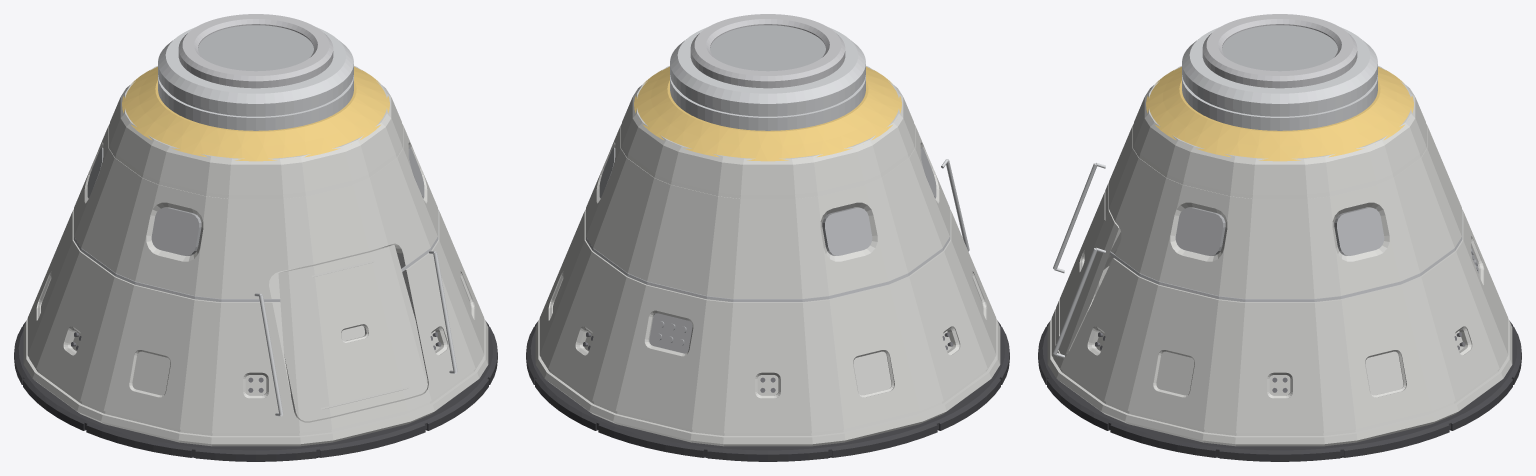
The model's file is ax_cmd_08_ares_cargo_capsule.glb.
3 renders of one model, left to right at view 1: azimuth 30°, elevation 25°; view 2: azimuth 150°, elevation 25°; view 3: azimuth 270°, elevation 25°, orthographic.
Parts seen in each view (by area): view 1: shell, hatch_door_1, mli_crown, nose_cap, heat_shield, docking_port, docking_hatch, window_blanking_plates, handrails, grey_stripe; view 2: shell, mli_crown, nose_cap, heat_shield, docking_port, docking_hatch, window_blanking_plates, grey_stripe, umbilical_panel; view 3: shell, mli_crown, nose_cap, heat_shield, docking_port, docking_hatch, window_blanking_plates, hatch_door_1, grey_stripe, handrails.
Part boxes in pixels (x1,y1,x2,y2): shell: (23,66,488,446); hatch_door_1: (278,245,427,421); mli_crown: (122,66,389,161); nose_cap: (158,27,353,130); heat_shield: (14,320,497,461); docking_port: (178,14,333,88); docking_hatch: (198,25,313,71); window_blanking_plates: (87,147,424,255); handrails: (254,250,457,416); grey_stripe: (73,210,438,301); shell: (535,66,1000,446); mli_crown: (634,66,901,161); nose_cap: (670,27,865,130); heat_shield: (526,320,1009,461); docking_port: (690,14,845,88); docking_hatch: (710,25,825,71); window_blanking_plates: (599,147,936,255); grey_stripe: (585,210,950,301); umbilical_panel: (649,313,692,353); shell: (1047,66,1512,446); mli_crown: (1146,66,1413,161); nose_cap: (1182,27,1377,130); heat_shield: (1038,320,1521,461); docking_port: (1202,14,1357,88); docking_hatch: (1222,25,1337,71); window_blanking_plates: (1175,207,1384,255); hatch_door_1: (1056,182,1118,355); grey_stripe: (1109,210,1462,301); handrails: (1053,162,1105,358).
Bounding box in the file's own units: 3.75 × 2.95 × 3.75.
